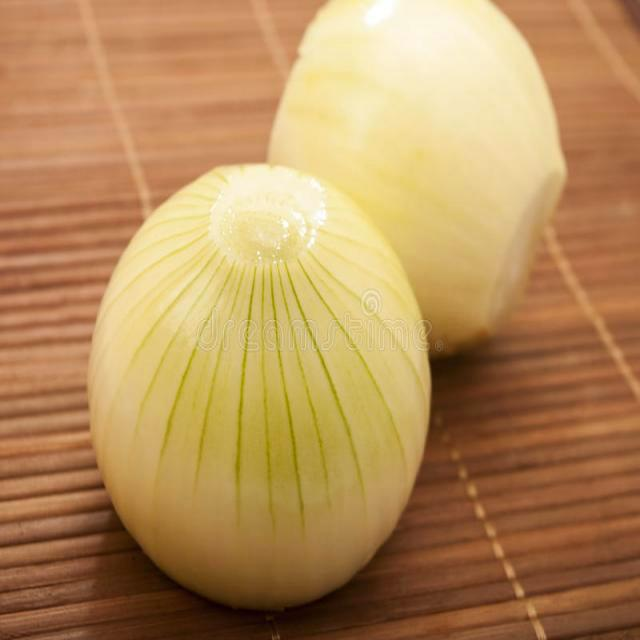onion: (86, 167, 431, 615), (268, 0, 566, 376)
